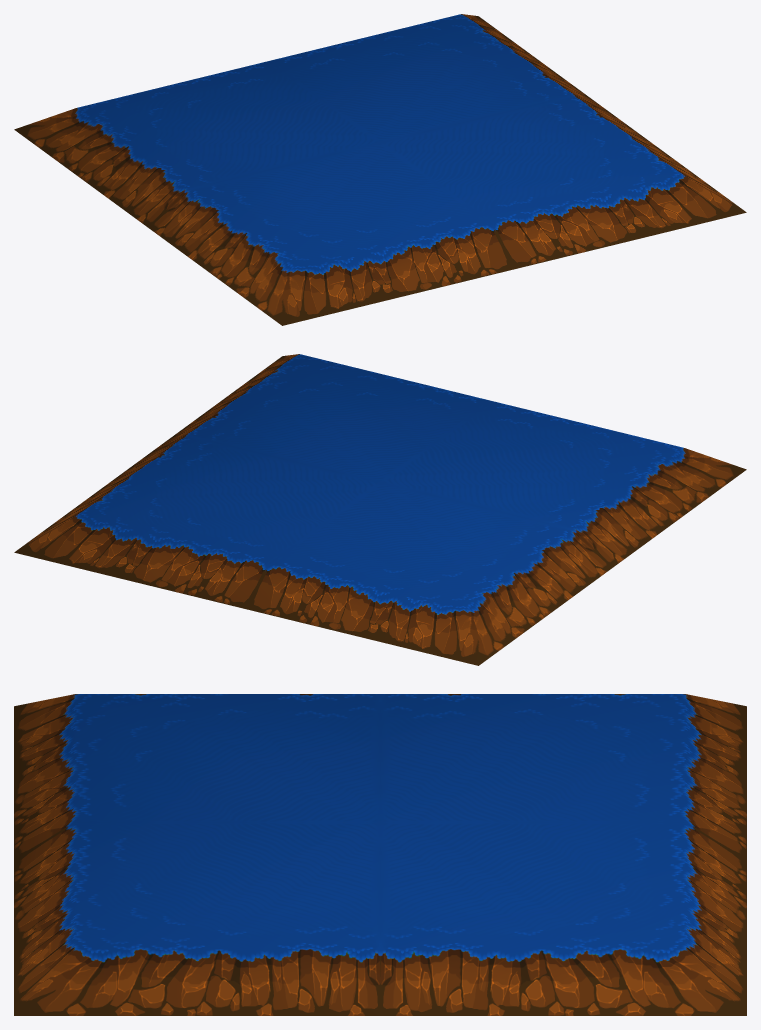
Rendered from BlueLand_01b.FBX.
3 views of the same model, one above another, from view 1: azimuth 30°, elevation 25°; view 2: azimuth 150°, elevation 25°; view 3: azimuth 270°, elevation 25° (orthographic). The views are drawn at different scales.
Parts seen in each view (by area): view 1: BlueLand_01b; view 2: BlueLand_01b; view 3: BlueLand_01b.
Part boxes in pixels (x1,y1,x2,y2): BlueLand_01b: (14, 14, 746, 325); BlueLand_01b: (14, 354, 746, 665); BlueLand_01b: (14, 694, 746, 1015).
Size of the model in its own units: 10064 by 586 by 10066.
